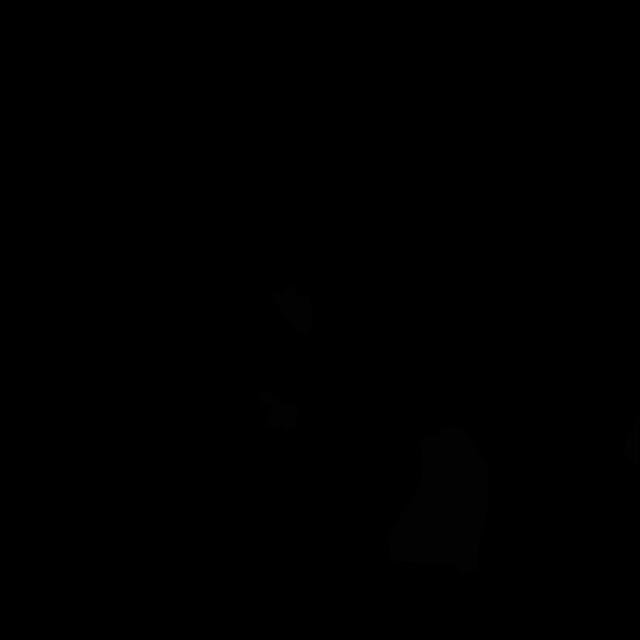cardboard: (388, 425, 488, 573), (270, 284, 314, 336), (260, 387, 298, 430), (622, 413, 639, 470)
